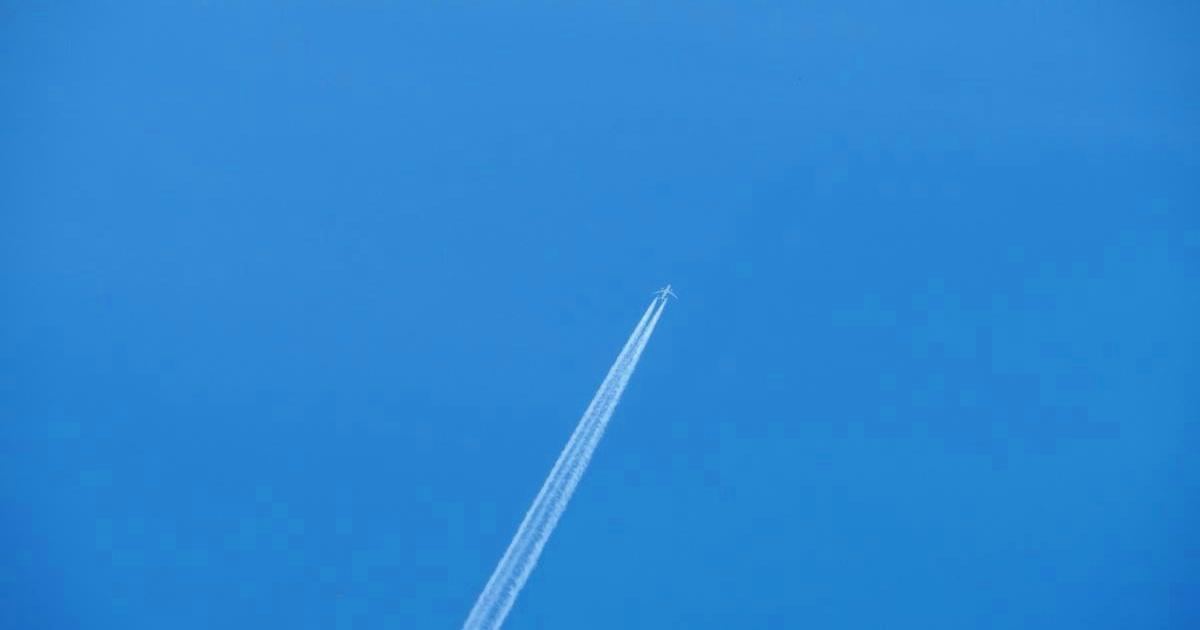Plane: (448, 236, 745, 623)
